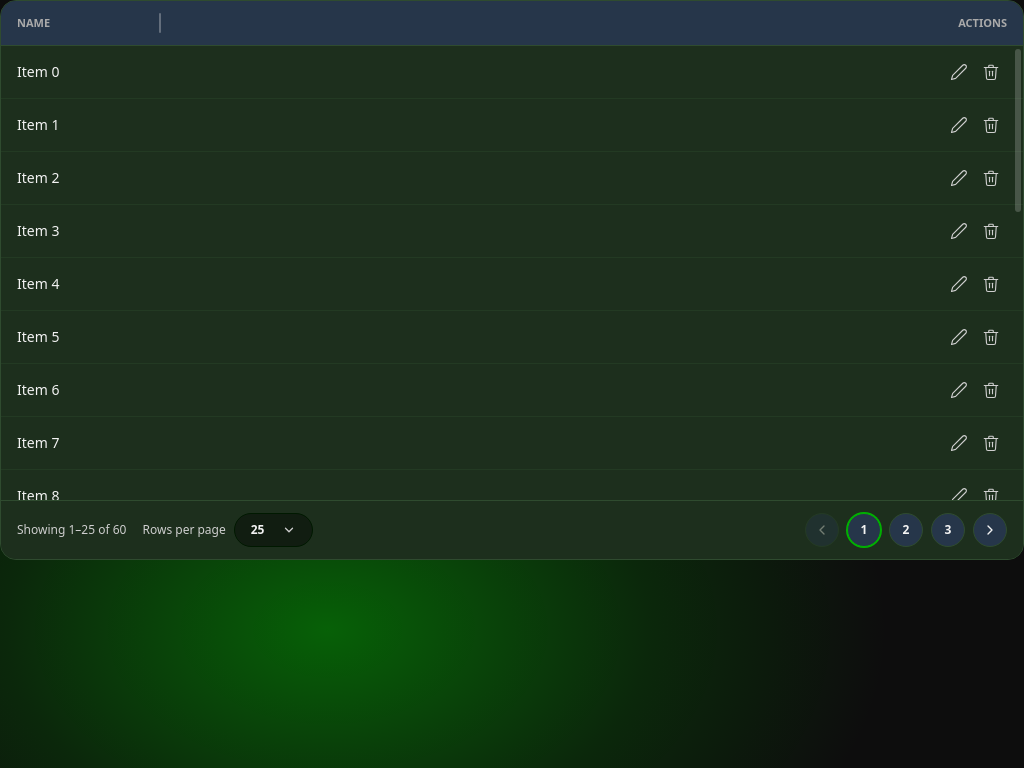
Scenario: DataTable › pagination › changes the page size
Select "10" in the dropdown labelled "Rows per page" at (273, 530), box [234,513,313,547]
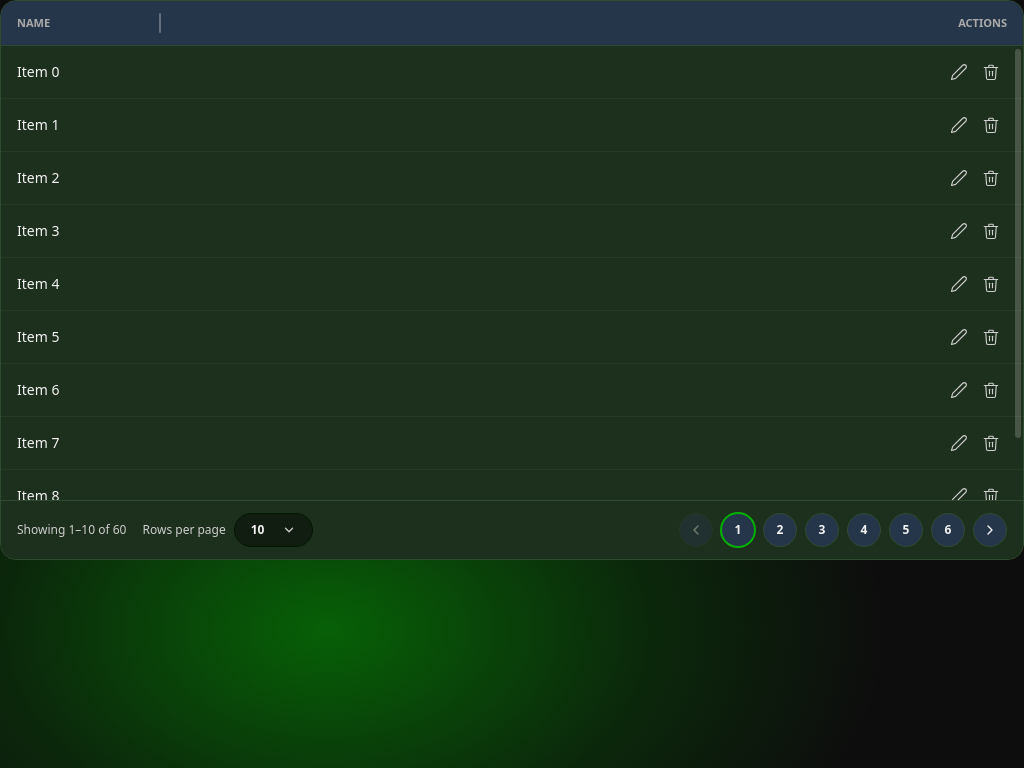
Check: the text "Showing 1–10 of 60" is shown, box [17,521,126,539]
Check: the button named "Page 6" is shown, box [931,513,965,547]
